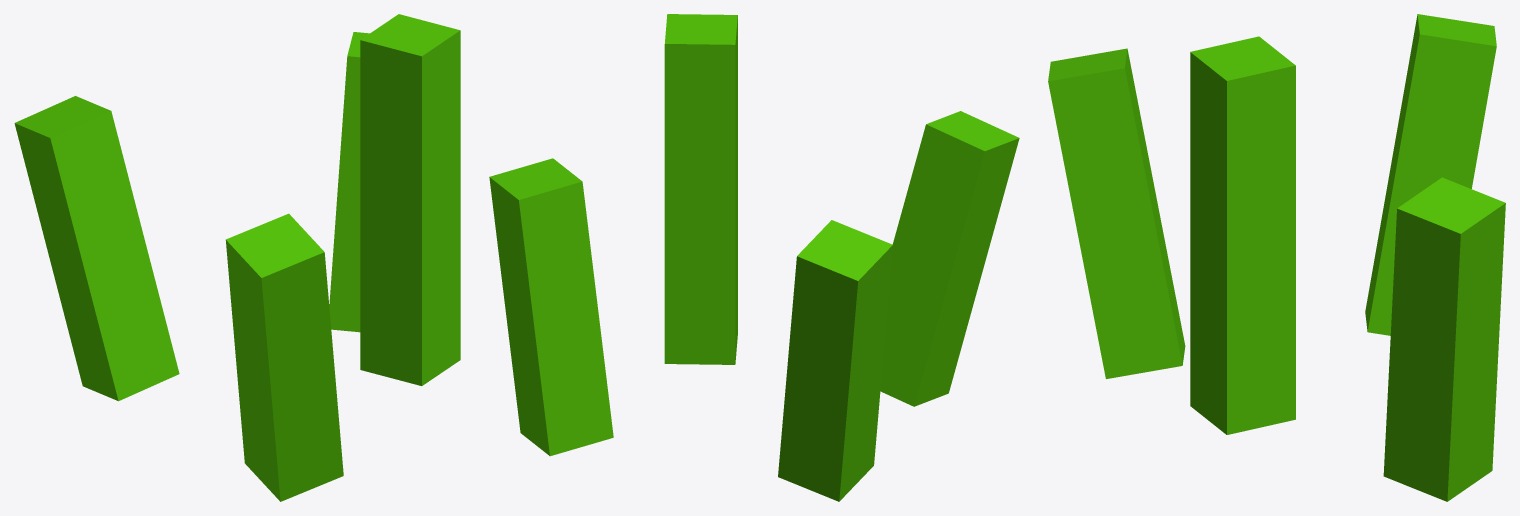
Rendered from grass.glb.
3 views of the same model, side by side, from view 1: azimuth 30°, elevation 25°; view 2: azimuth 150°, elevation 25°; view 3: azimuth 270°, elevation 25° (orthographic). The views are drawn at different scales.
Parts seen in each view (by area): view 1: grass; view 2: grass; view 3: grass.
Part boxes in pixels (bbox=[...]): grass: bbox=[14, 14, 460, 501]; grass: bbox=[489, 14, 1019, 501]; grass: bbox=[1048, 14, 1505, 501].
Bounding box in the file's own units: 0.6277 × 0.5669 × 0.5858.
